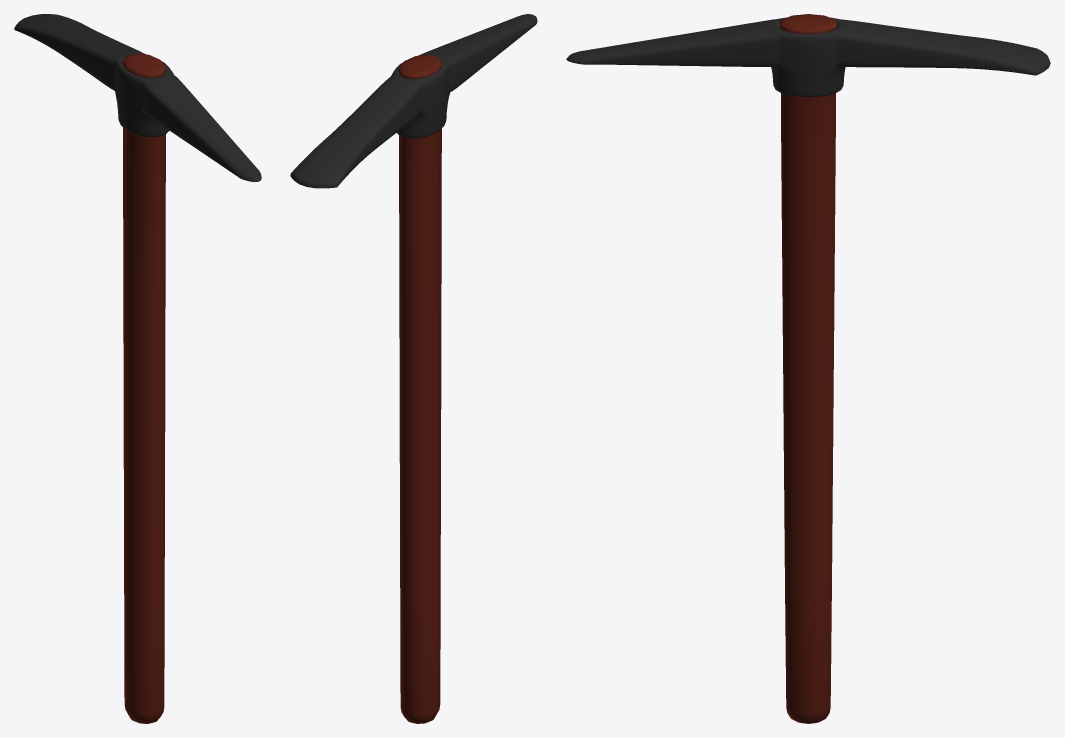
The model's file is Pickaxe.FBX.
3 renders of one model, left to right at view 1: azimuth 30°, elevation 25°; view 2: azimuth 150°, elevation 25°; view 3: azimuth 270°, elevation 25°, orthographic. The views are drawn at different scales.
Parts seen in each view (by area): view 1: Stick, Metal; view 2: Stick, Metal; view 3: Stick, Metal.
Boxes of the visible parts, x1,y1,x2,y2 form: Stick: [122, 53, 166, 723]; Metal: [14, 14, 261, 181]; Stick: [398, 54, 442, 723]; Metal: [290, 14, 537, 188]; Stick: [780, 14, 836, 723]; Metal: [566, 17, 1050, 97].
Bounding box in the file's own units: 17.46 × 234 × 147.
